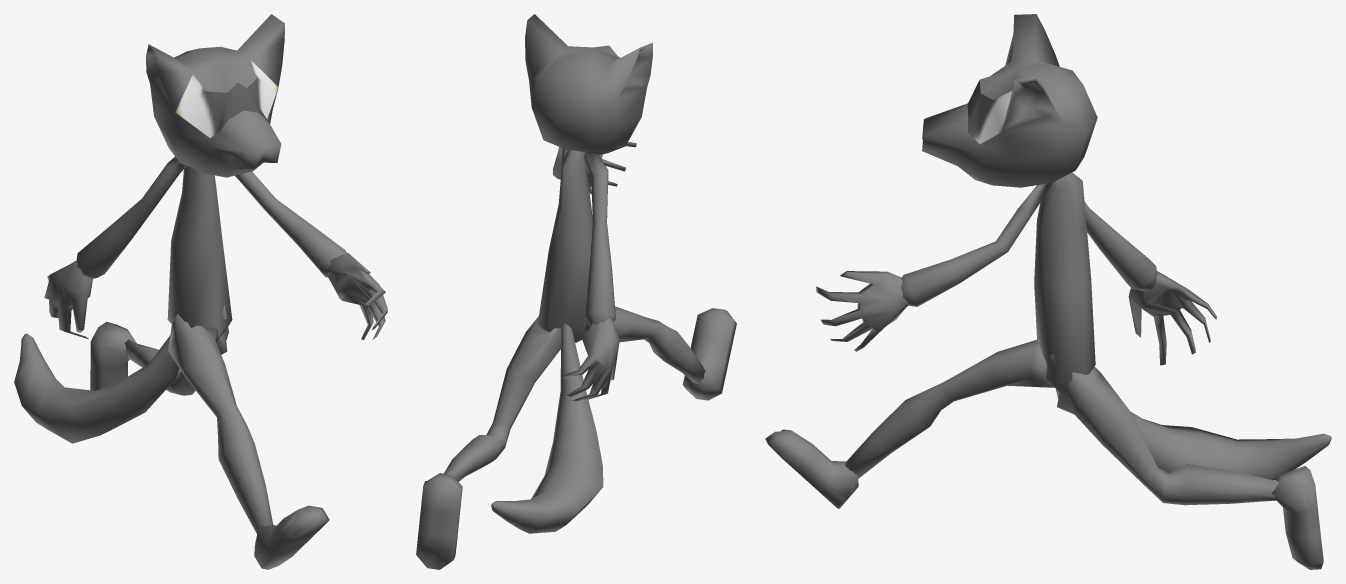
File: werewolfrun2.obj
The picture shows the model from 3 angles, left to right: view 1: azimuth 30°, elevation 25°; view 2: azimuth 150°, elevation 25°; view 3: azimuth 270°, elevation 25°; orthographic projection. The views are drawn at different scales.
Parts seen in each view (by area): view 1: Sphere001, Object001; view 2: Sphere001; view 3: Sphere001, Object001.
Boxes of the visible parts, box(x1,y1,x2,y2) form: Sphere001: box(14, 14, 387, 569); Object001: box(175, 60, 278, 137); Sphere001: box(416, 14, 736, 569); Sphere001: box(765, 14, 1331, 569); Object001: box(967, 80, 1012, 143).
Bounding box in the file's own units: 54.27 × 139 × 140.
